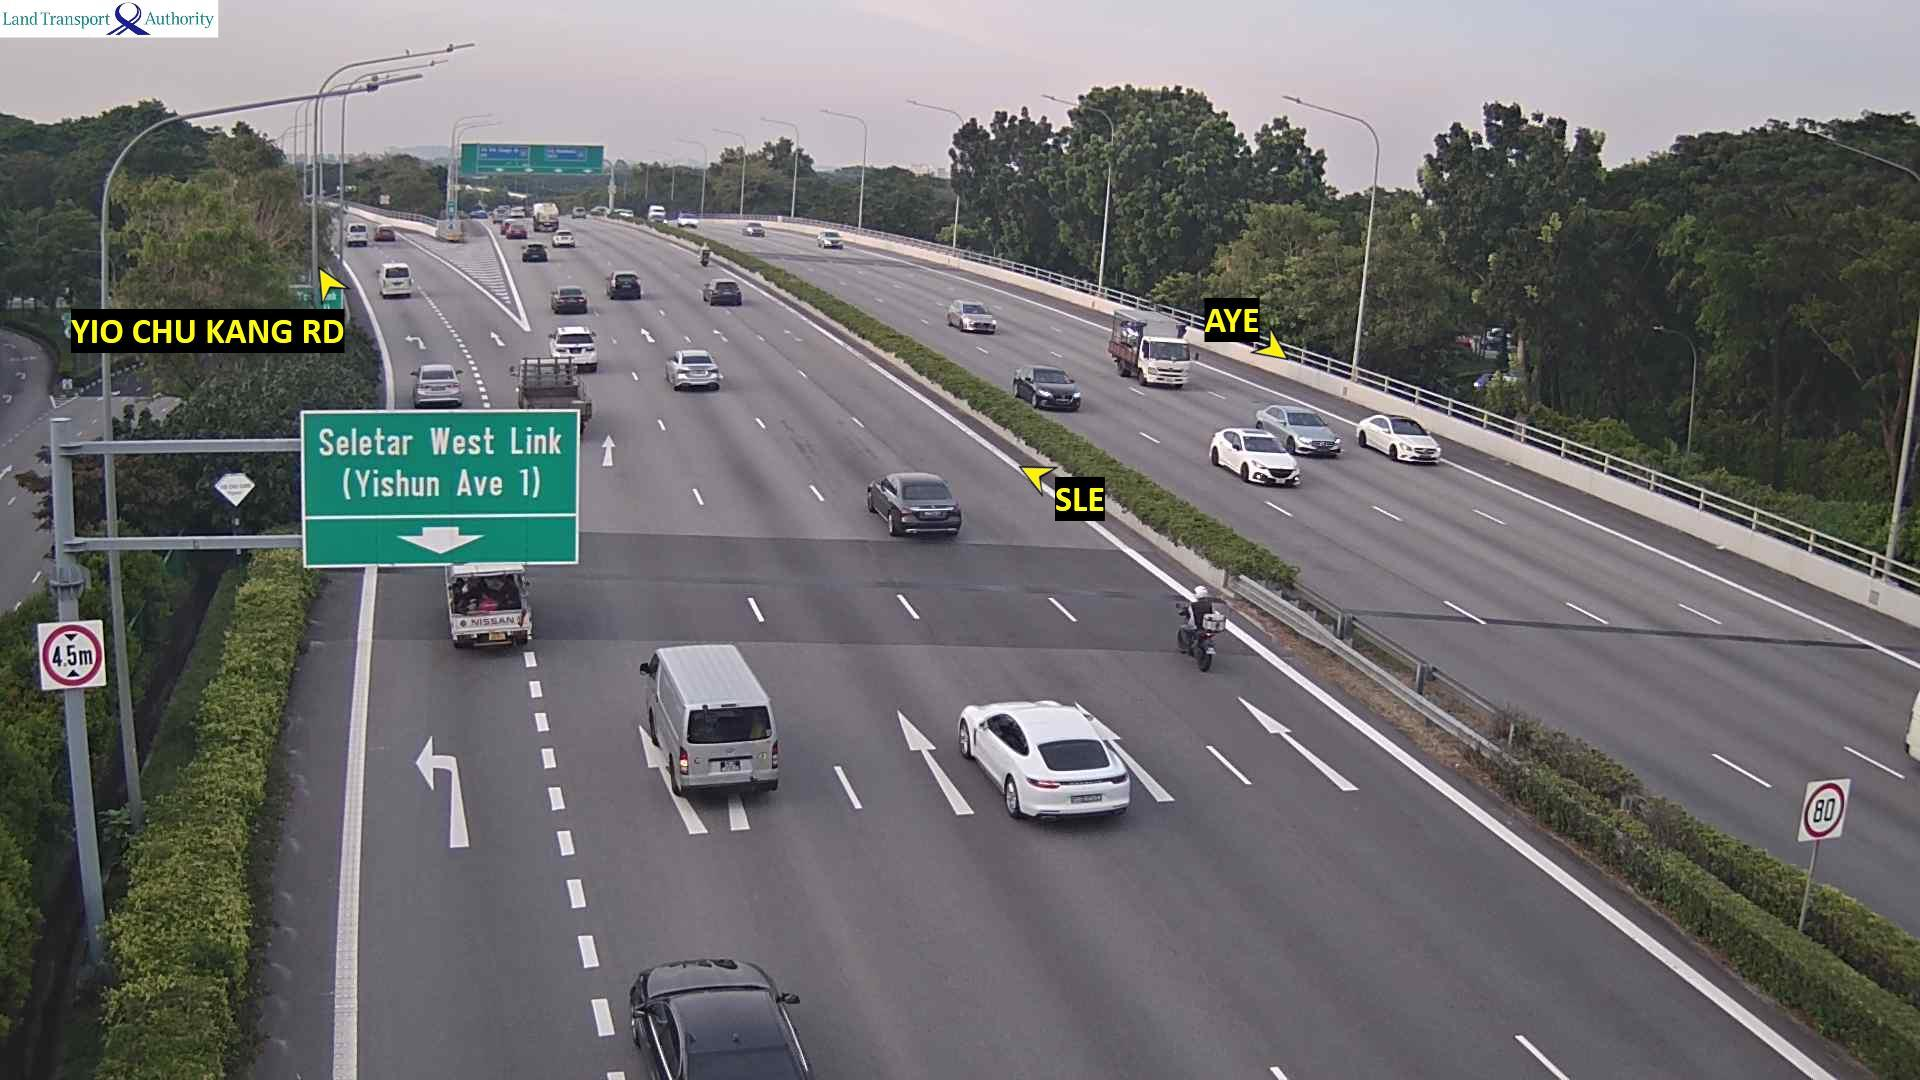incoming: (1230, 436, 1304, 491), (1131, 335, 1203, 389), (1275, 410, 1344, 459), (1383, 417, 1443, 465), (1025, 368, 1085, 410), (959, 302, 998, 334), (820, 231, 845, 249), (676, 212, 702, 228), (746, 223, 769, 237)
